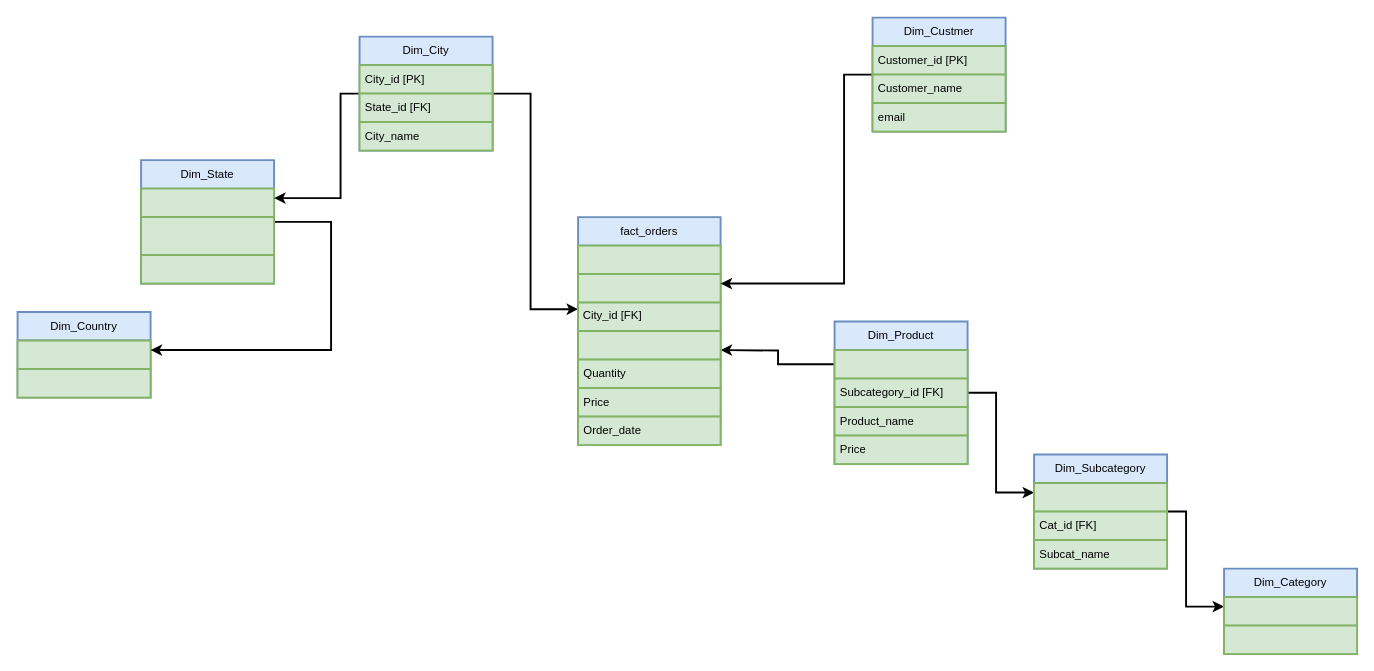
Image size: 1374x671. Some labels were removed from this diagram. Here are the shapes that lost their labels. From the top down, the centre of each, then its label:
[207,202]: State_id [PK]
[207,236]: Country_id [Fk]
[207,269]: State_name
[649,259]: Order_id [PK]
[649,288]: Customer_id [FK]
[83,354]: Country_id [PK]
[649,345]: Product_id [FK]
[900,364]: Product_id [PK]
[83,383]: Country_name
[1100,497]: Subcategory_id [PK]
[1290,611]: Cat_id [PK]
[1290,639]: Cat_name
